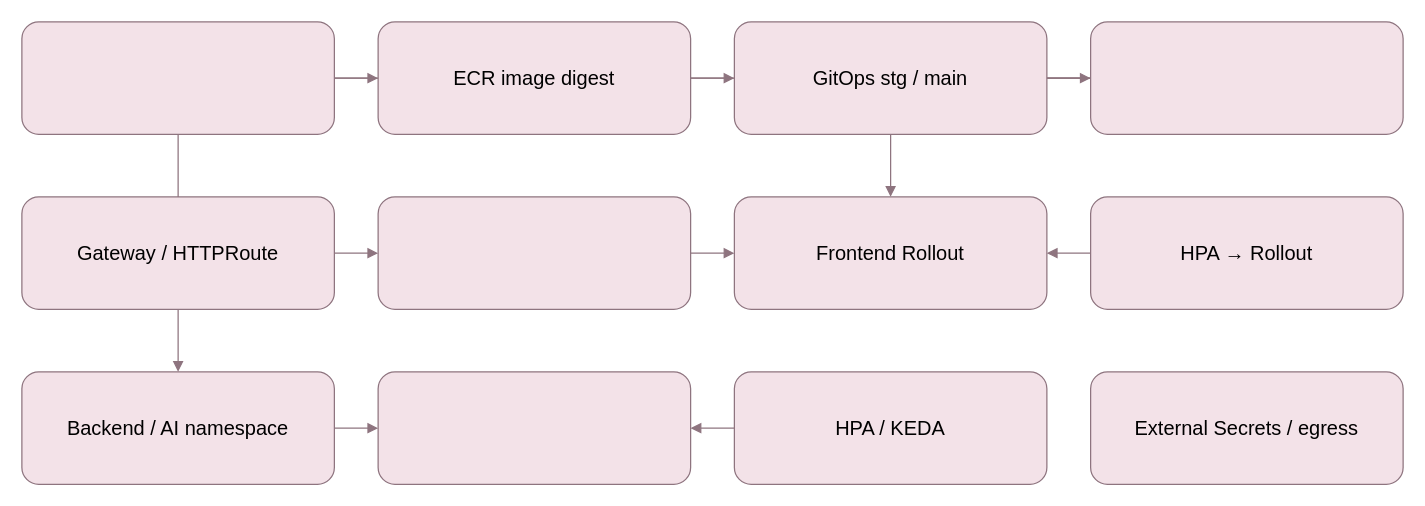
This 1425x506 diagram has some shape labels left out. Here are the shapes that lost their labels. From the top down, the centre of each, then its label:
(x=177, y=77): GitLab CI + Trivy
(x=1246, y=77): Argo CD
(x=534, y=252): Active + preview Service
(x=534, y=427): Deployments / consumers
